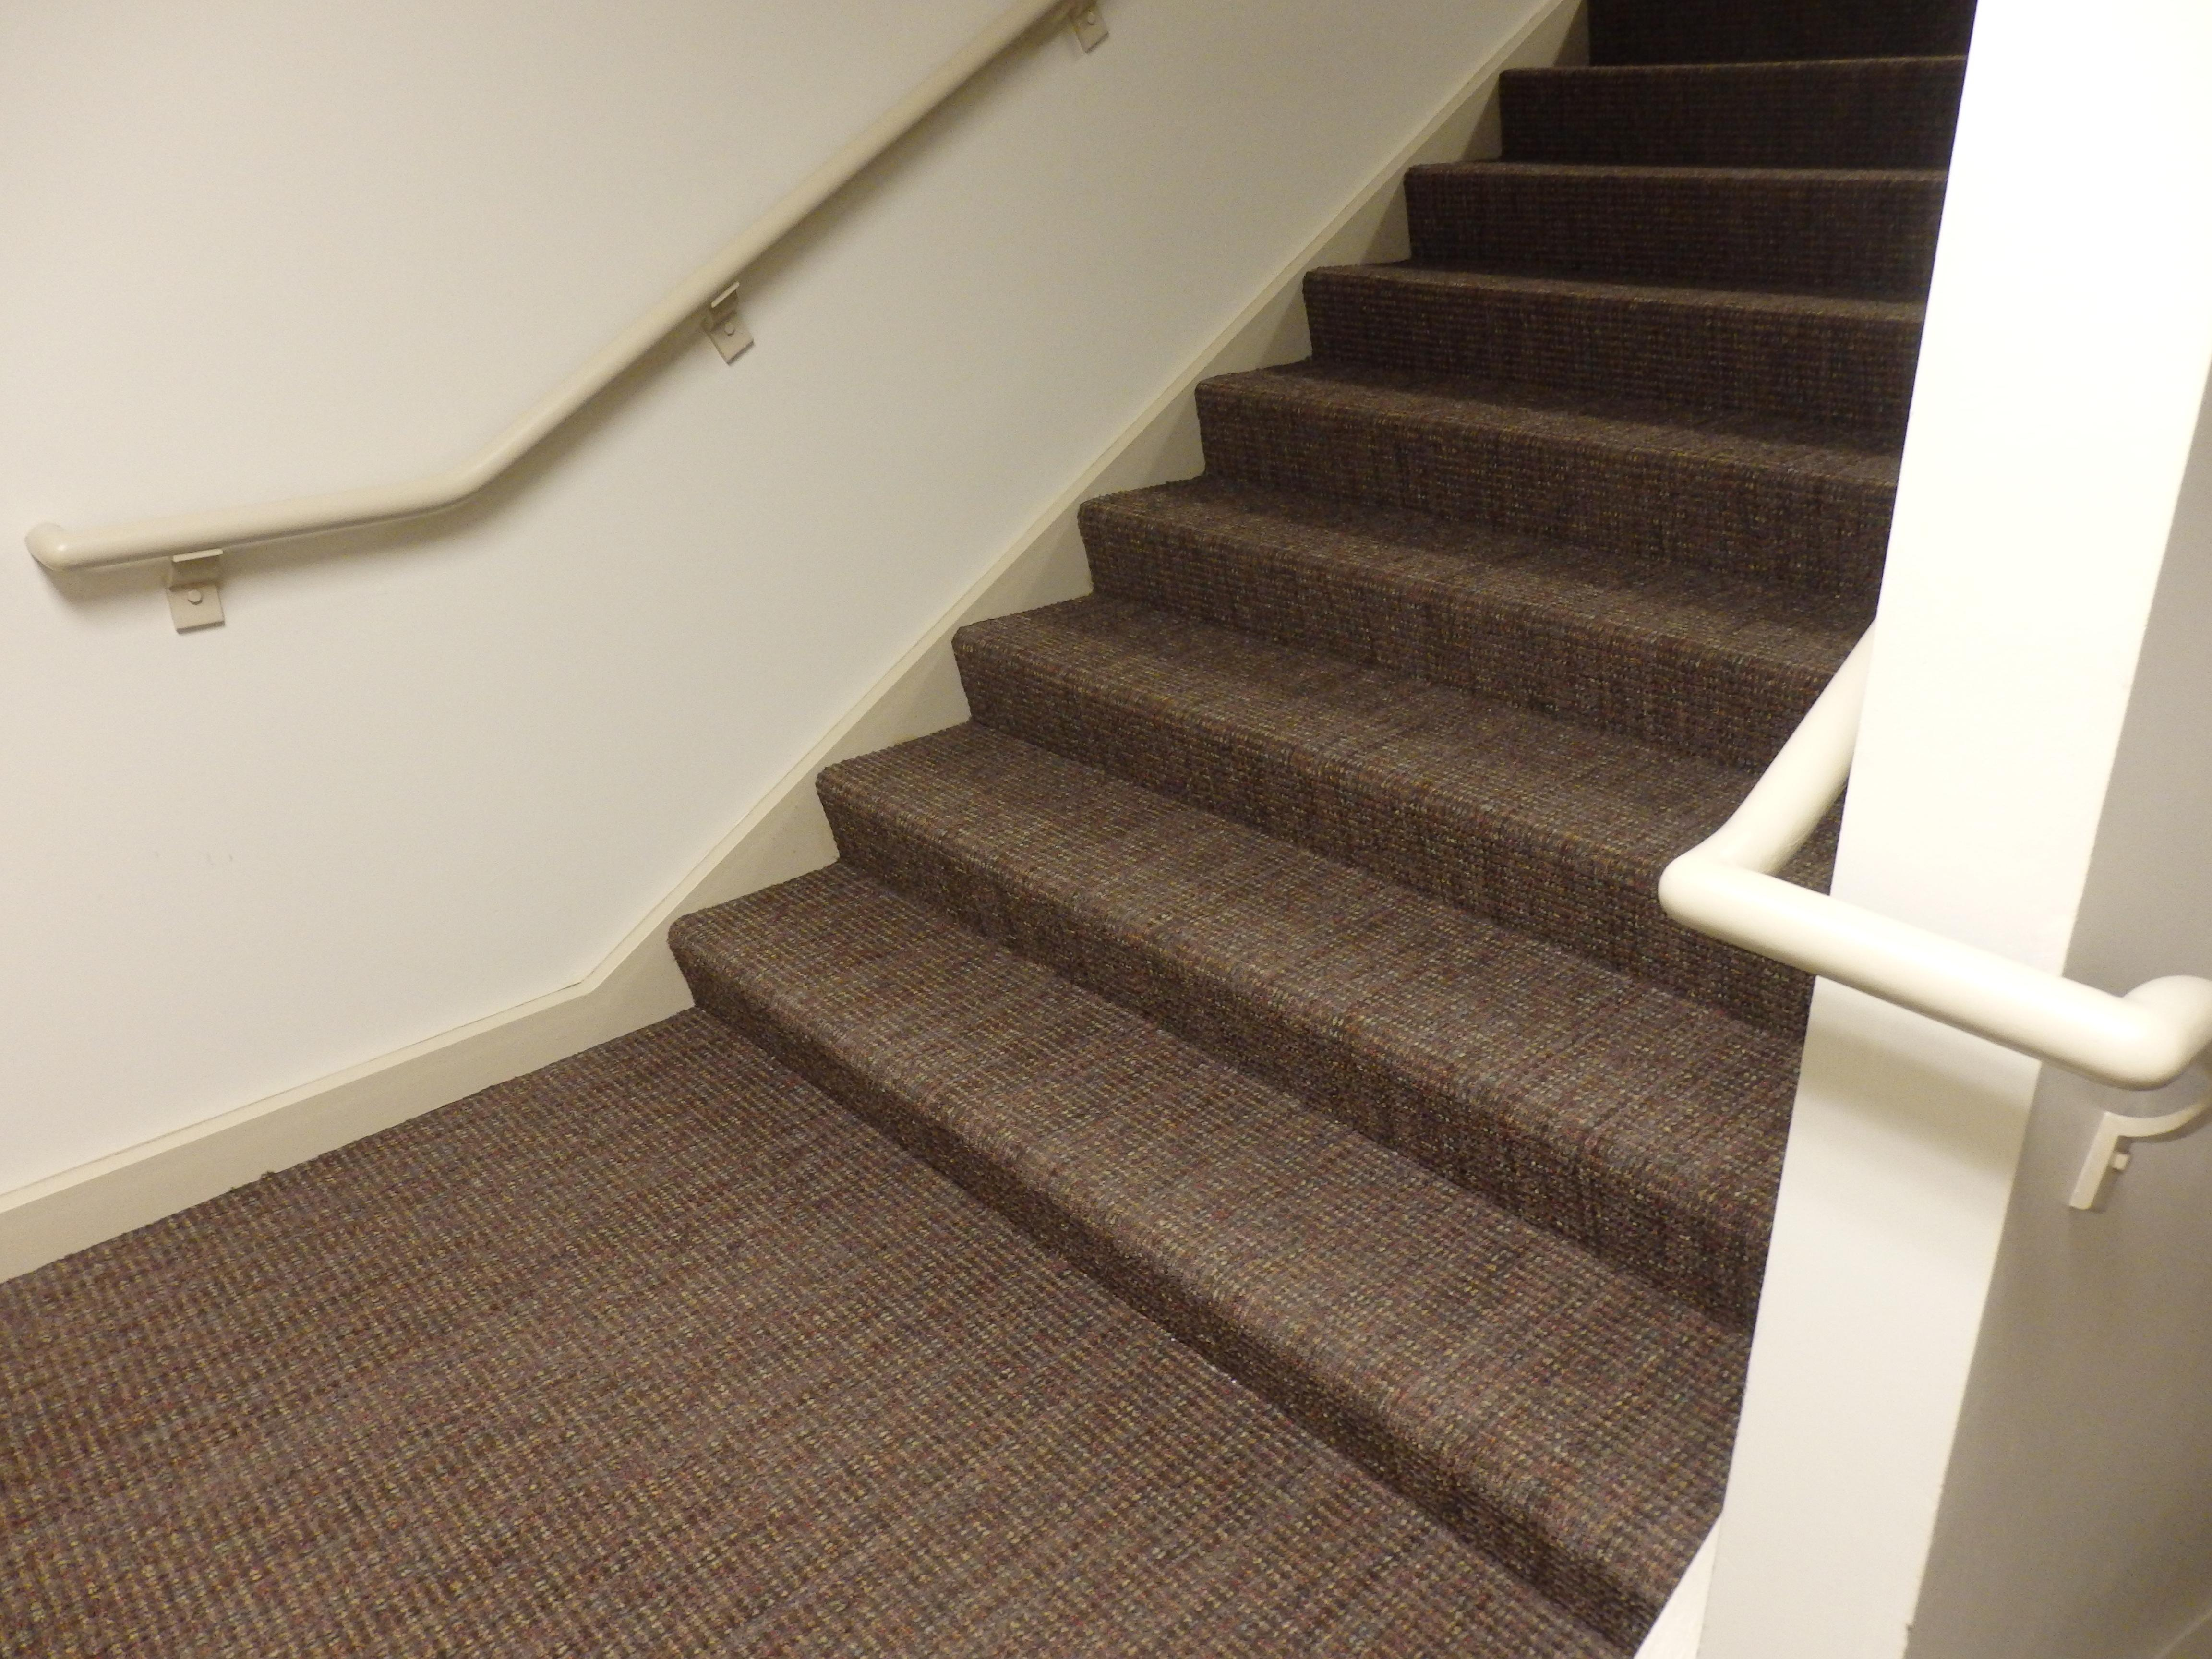stairs_up: (669, 14, 1944, 1544)
